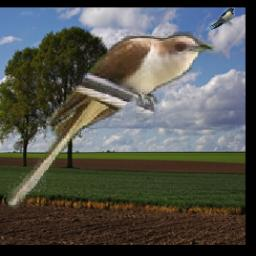Cuckoo: (5, 32, 214, 210)
Swallow: (206, 8, 235, 32)
